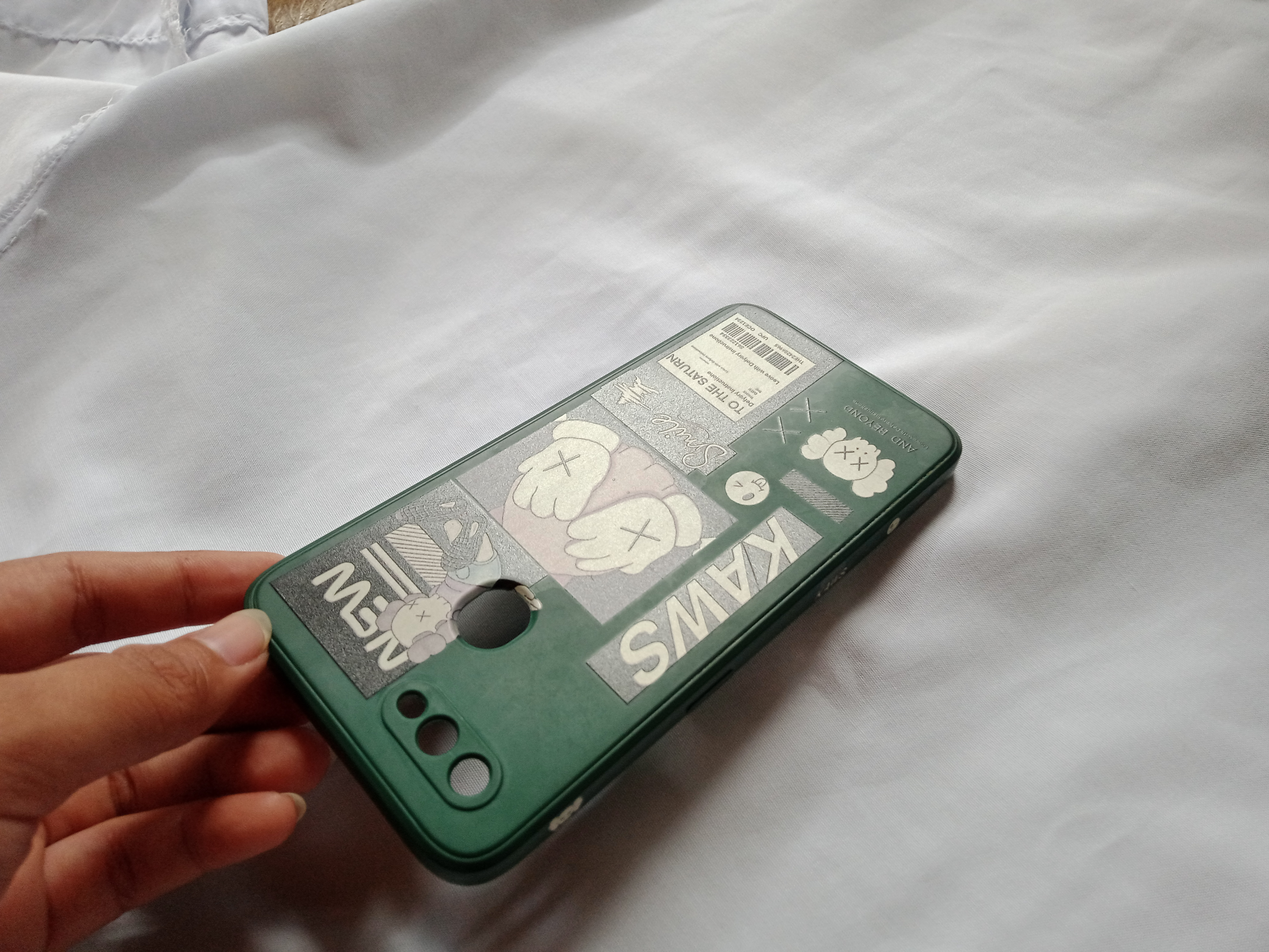plastic: (204, 207, 1199, 885)
